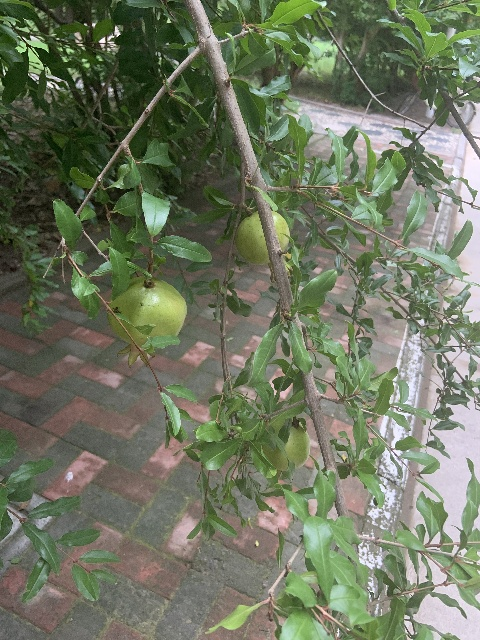mid-growth: (107, 275, 186, 369), (234, 210, 293, 283), (261, 419, 310, 483)
